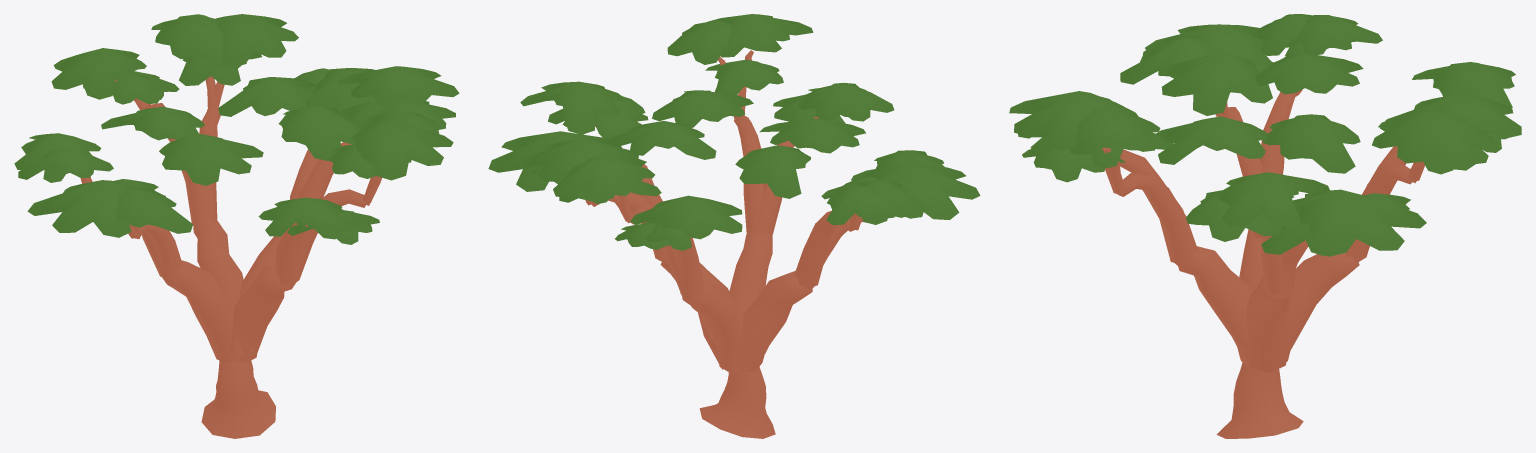
The model's file is Blender_GumboLimbo_1.glb.
3 renders of one model, left to right at view 1: azimuth 30°, elevation 25°; view 2: azimuth 150°, elevation 25°; view 3: azimuth 270°, elevation 25°, orthographic. The views are drawn at different scales.
Parts seen in each view (by area): view 1: Blender_GumboLimbo_1; view 2: Blender_GumboLimbo_1; view 3: Blender_GumboLimbo_1.
Part boxes in pixels (<box>): Blender_GumboLimbo_1: <box>14,14,459,438</box>; Blender_GumboLimbo_1: <box>488,14,980,438</box>; Blender_GumboLimbo_1: <box>1009,14,1521,438</box>.
Bounding box in the file's own units: 14.06 × 10.97 × 13.26.
